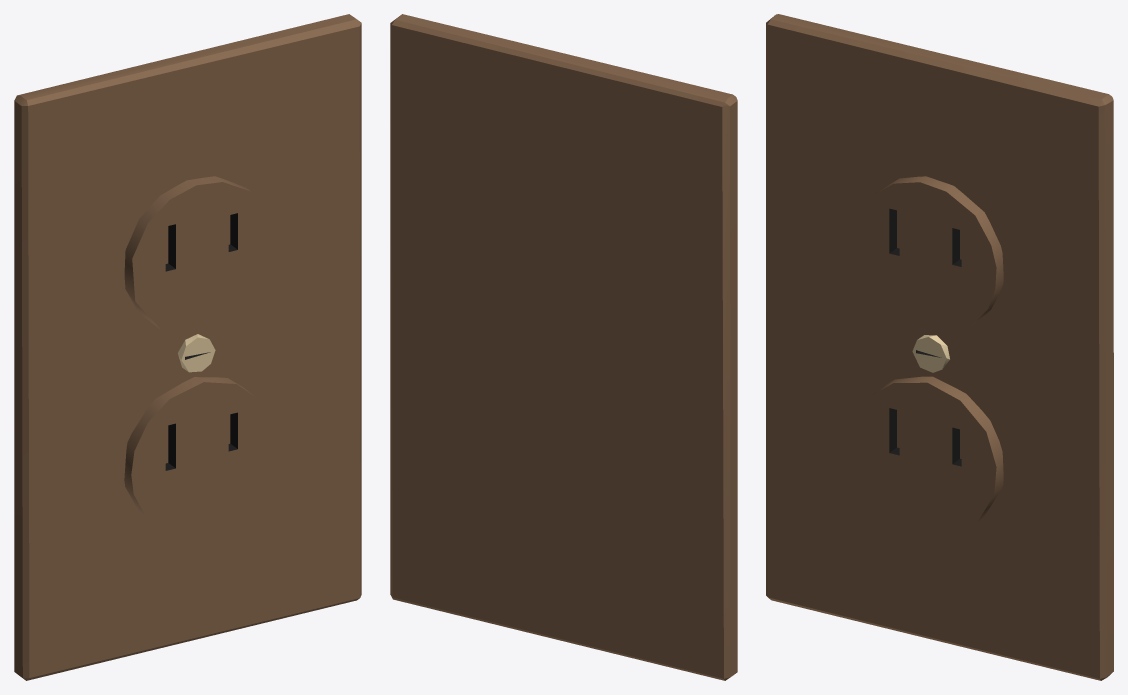
The model's file is outlet_twoprong.glb.
3 views of the same model, side by side, from view 1: azimuth 30°, elevation 25°; view 2: azimuth 150°, elevation 25°; view 3: azimuth 330°, elevation 25° (orthographic).
Visible parts, largest first — view 1: Outlet; view 2: Outlet; view 3: Outlet.
Part boxes in pixels (x1,y1,x2,y2): Outlet: (14,14,361,680); Outlet: (390,14,737,680); Outlet: (766,14,1113,680).
Bounding box in the file's own units: 0.0696 × 0.1138 × 0.00734.
